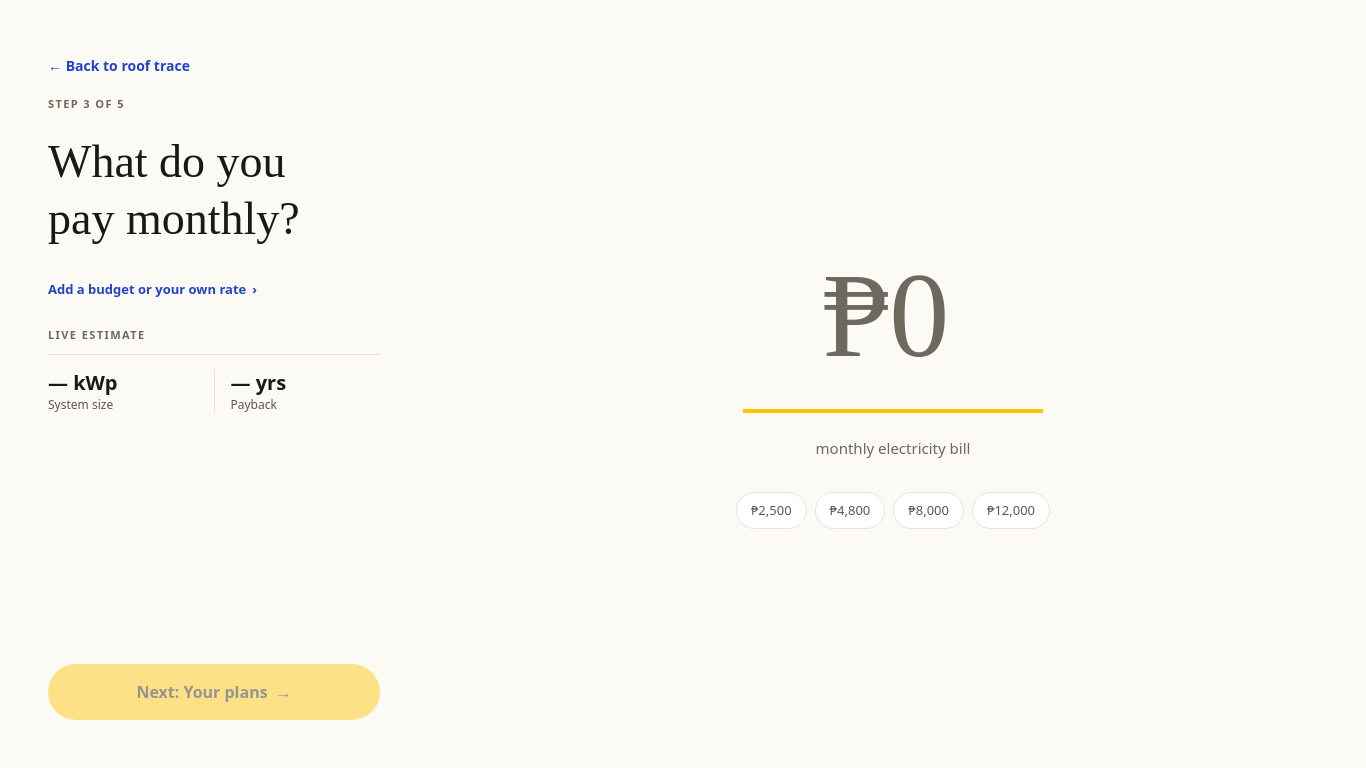
it: AssessmentPage › fills the bill from a quick pick rather than replacing the field
Click the button "₱8,000" at point(929, 510), box [893,492,964,529]
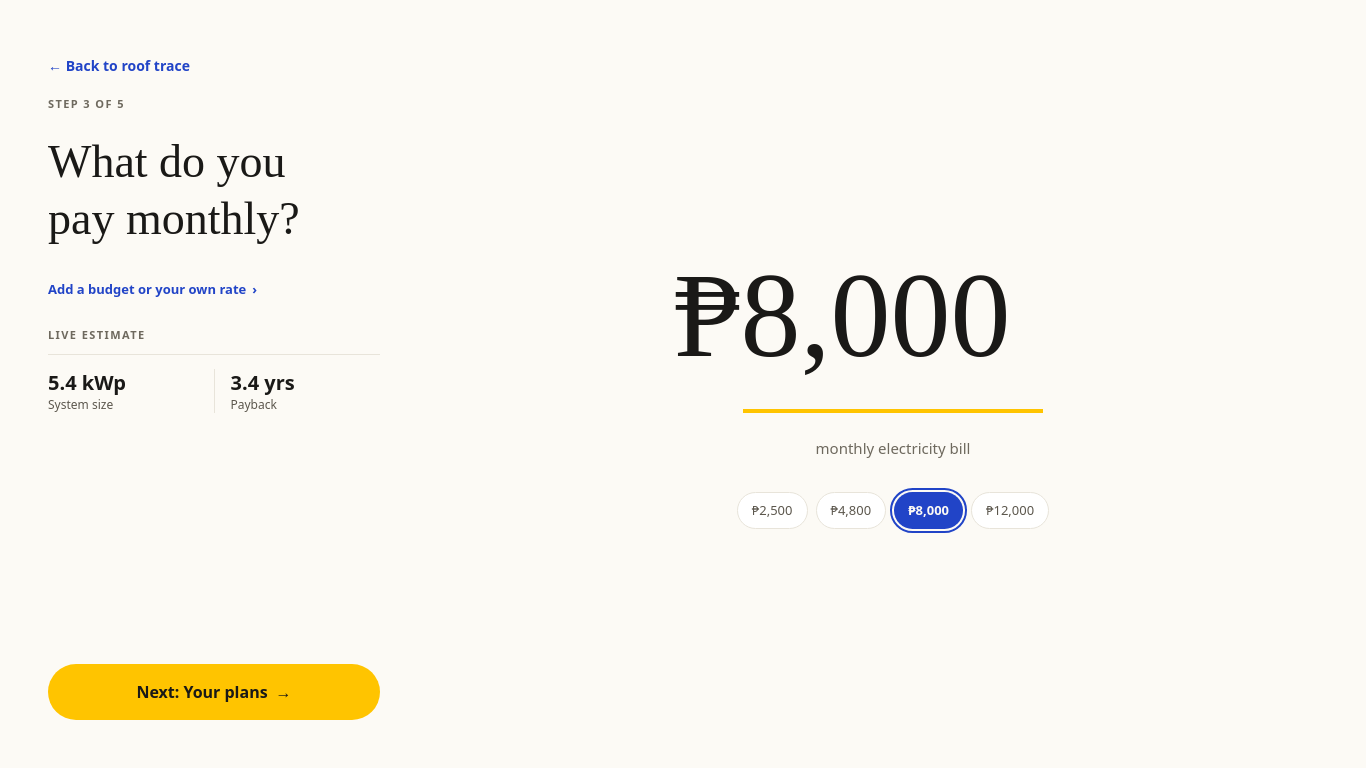
Check: the field named "Monthly electricity bill in pesos" holds "8,000", box [740,247,1112,385]
